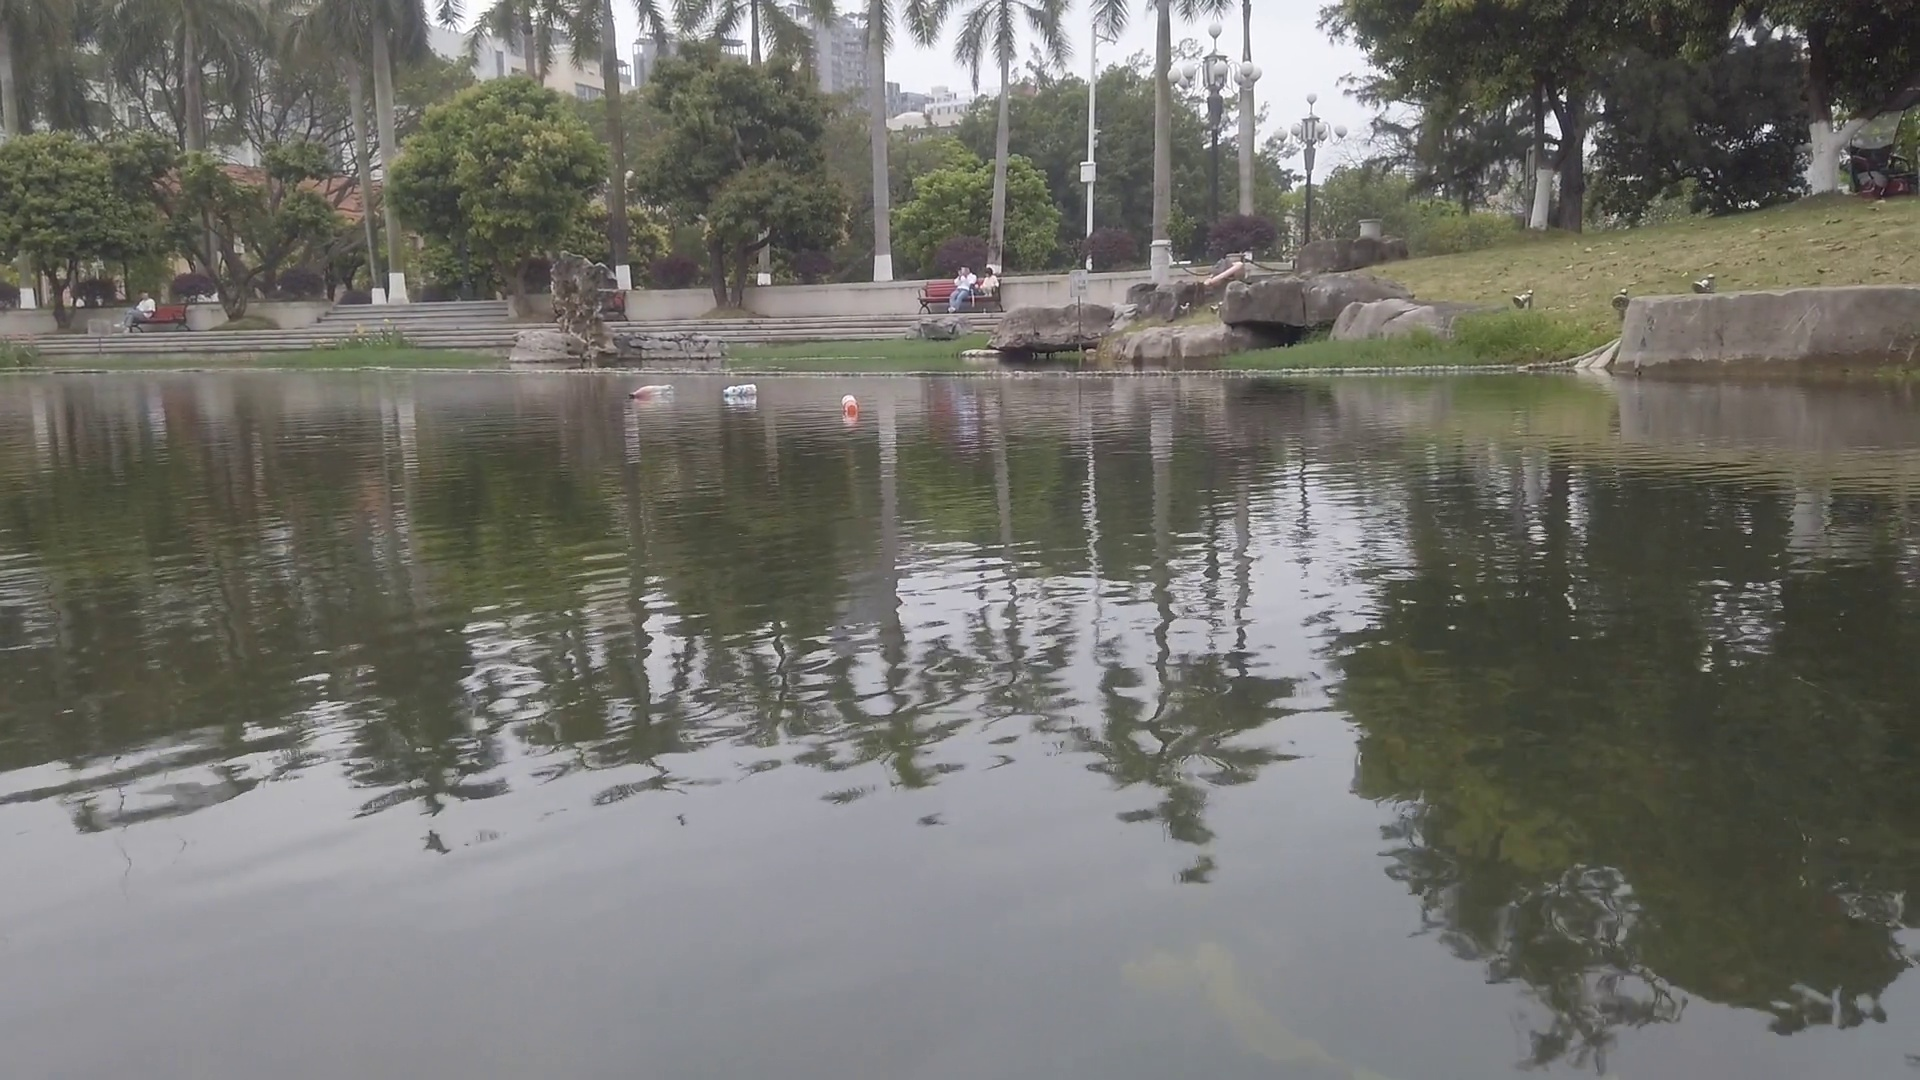bottle: (629, 384, 676, 398), (723, 382, 760, 397), (843, 393, 862, 415)
